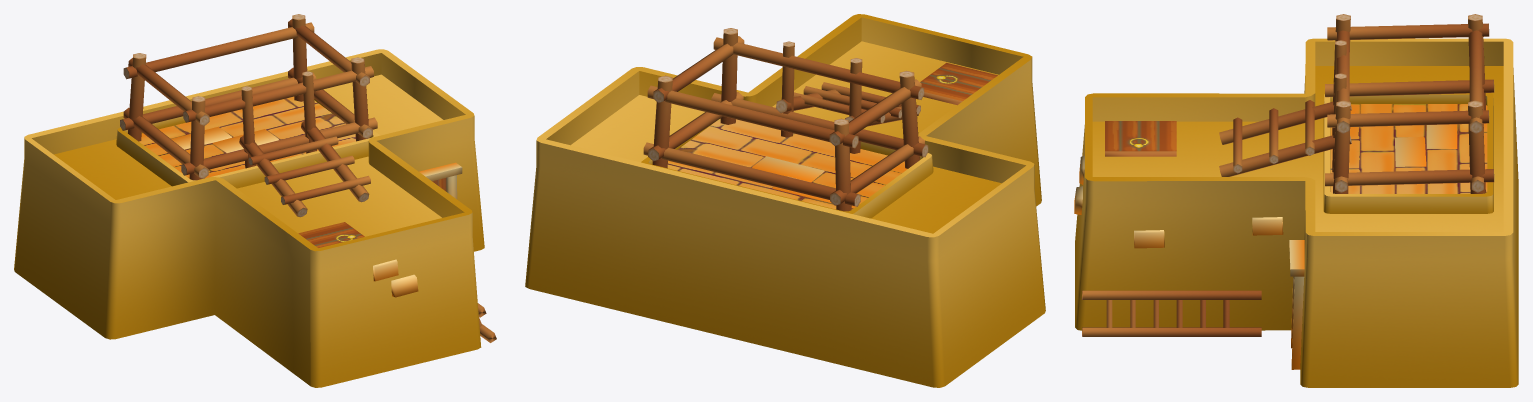
The model's file is ArabianHouse_XL_09.fbx.
3 renders of one model, left to right at view 1: azimuth 30°, elevation 25°; view 2: azimuth 150°, elevation 25°; view 3: azimuth 270°, elevation 25°, orthographic. The views are drawn at different scales.
Visible parts, largest first — view 1: ArabianHouse_XL_09; view 2: ArabianHouse_XL_09; view 3: ArabianHouse_XL_09.
Boxes of the visible parts, box(x1,y1,x2,y2) form: ArabianHouse_XL_09: box(14, 14, 496, 387); ArabianHouse_XL_09: box(525, 14, 1045, 387); ArabianHouse_XL_09: box(1074, 14, 1518, 387).
Size of the model in its own units: 6.77 by 3.43 by 6.17.
